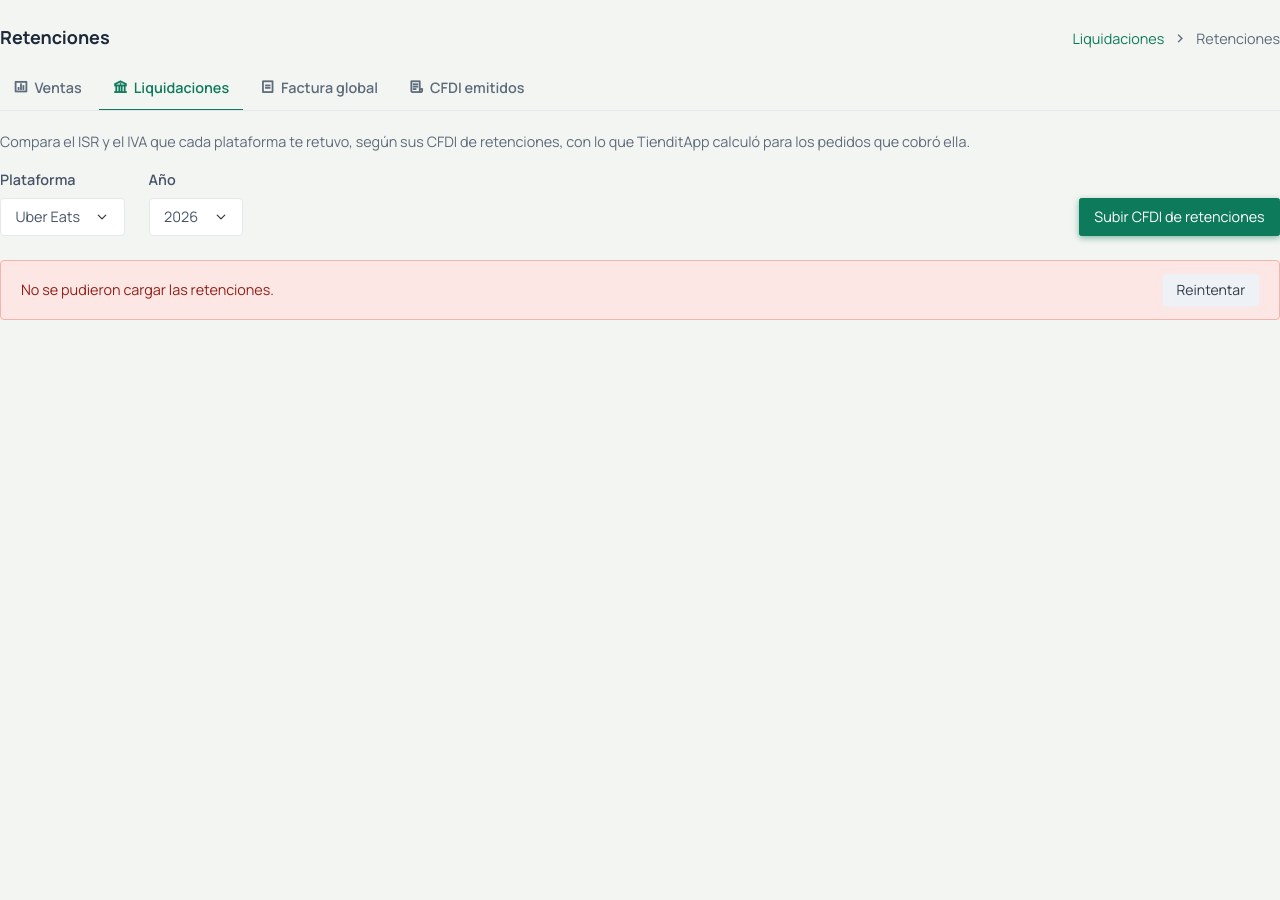
Test: PlatformWithholdings › shows the error of the server with a retry
The image size is (1280, 900).
Expected: the message shows "No se pudieron cargar las retenciones.", [21, 280, 274, 299]
Step 1. Click the button "Reintentar" → (1211, 290), box [1163, 274, 1259, 306]
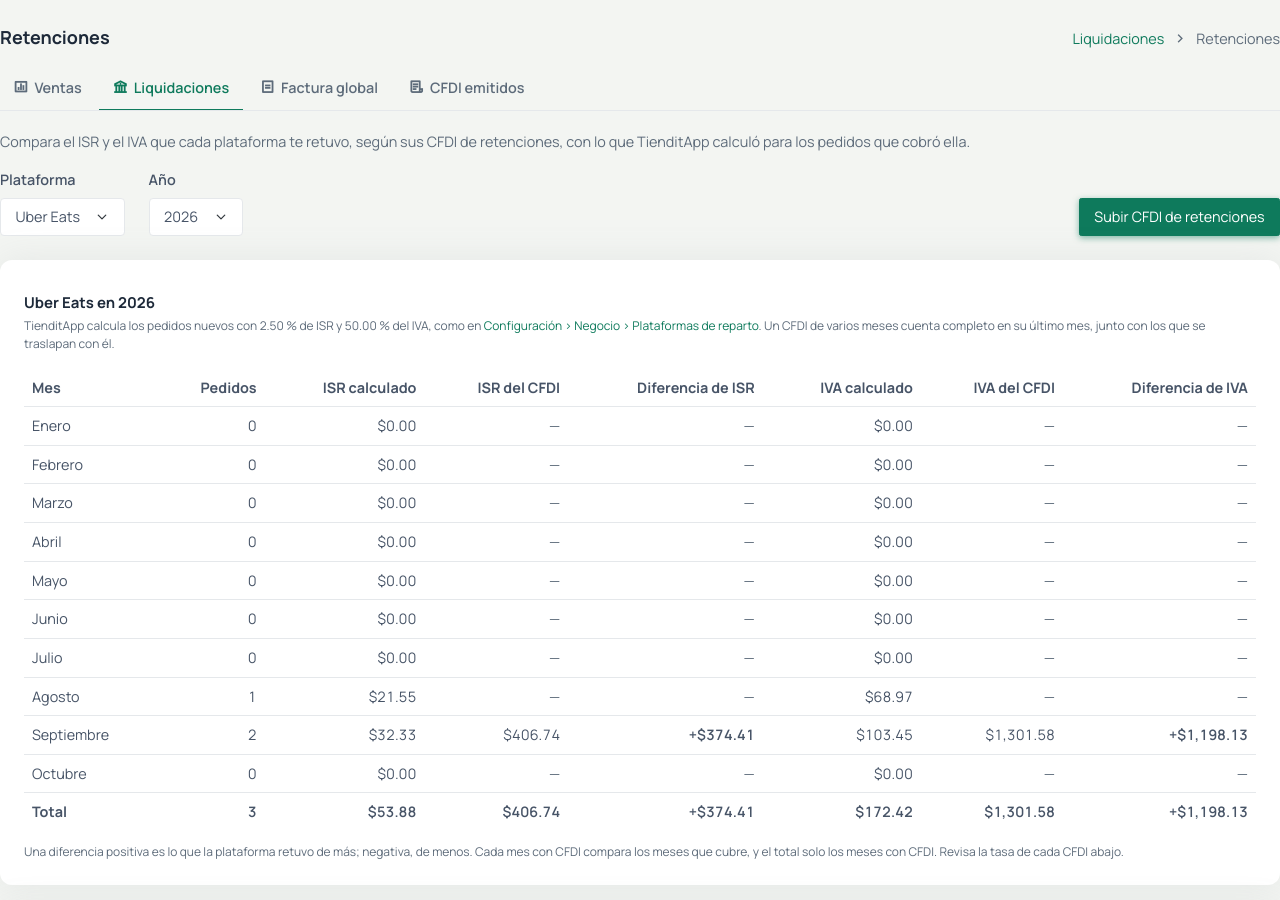
Result: the table named "Retenciones de Uber Eats" is shown at [24, 369, 1256, 831]
